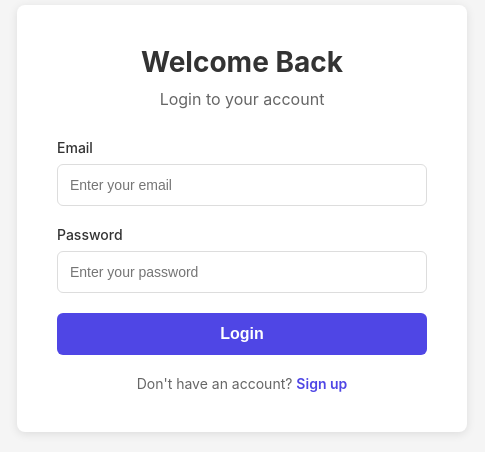
Login Component › should disable button while loading
This screenshot has width=485, height=452.
Type "test@example.com" into the field labelled "Email" at (242, 184), box [57,164,427,206]
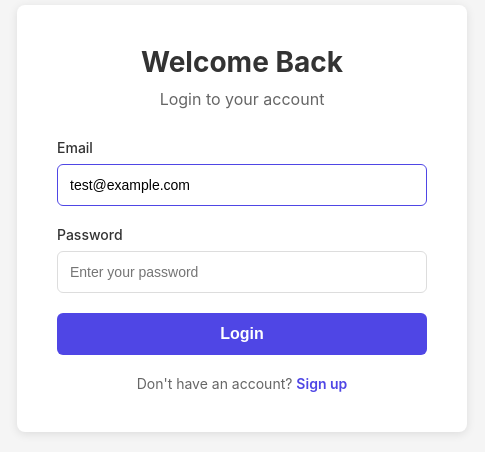
Type "password123" into the password field labelled "Password" at (242, 272), box [57,250,427,292]
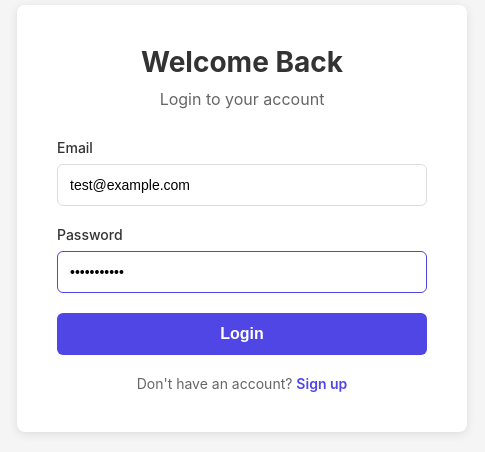
Click the button "Login" at (242, 334), box [57,312,427,354]
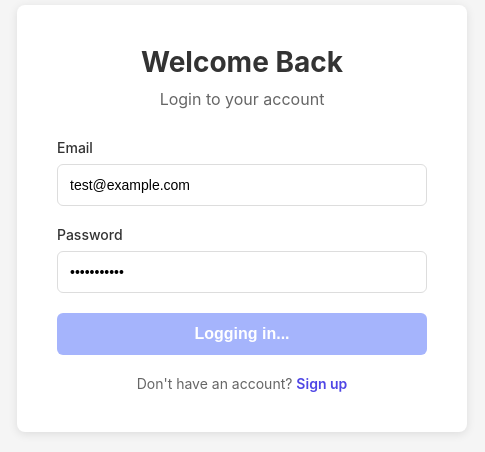
Check: the button named "login" is disabled, box [57,312,427,354]
